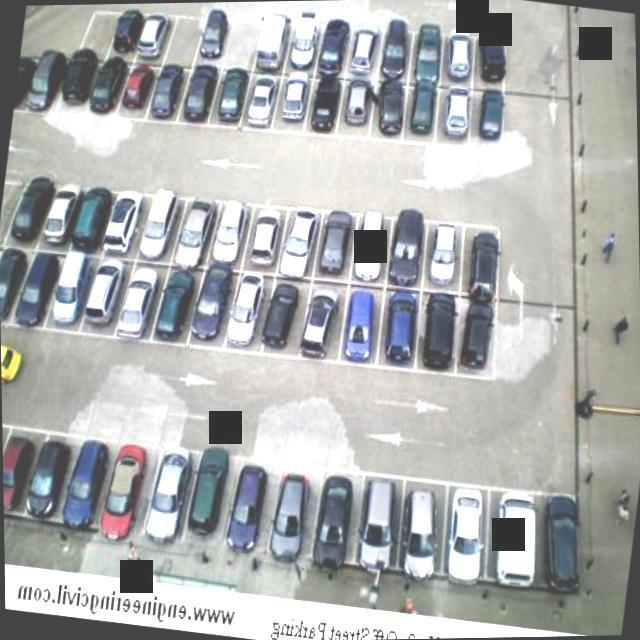space-empty: (77, 4, 124, 63), (225, 17, 259, 71), (166, 17, 199, 69), (0, 181, 15, 255)
space-occupied: (479, 479, 555, 595), (266, 459, 331, 579), (310, 461, 372, 578), (432, 478, 497, 587), (348, 471, 408, 583), (100, 439, 158, 554), (180, 445, 236, 561), (224, 460, 284, 566), (391, 475, 452, 579), (64, 433, 119, 542), (143, 451, 197, 556), (537, 489, 586, 597), (31, 432, 81, 529), (414, 292, 467, 376), (2, 423, 44, 528), (339, 286, 389, 370), (382, 207, 432, 291), (118, 253, 167, 337), (25, 42, 73, 126), (263, 281, 312, 363), (302, 281, 351, 361), (424, 212, 470, 294), (311, 205, 359, 283), (175, 59, 223, 137), (226, 272, 270, 357), (48, 250, 88, 342), (351, 205, 395, 288), (192, 265, 232, 355), (39, 177, 85, 255), (12, 173, 56, 253), (102, 182, 148, 258), (280, 202, 324, 280), (381, 287, 425, 365), (71, 181, 115, 257), (244, 200, 288, 276), (83, 256, 125, 335), (456, 300, 498, 379), (19, 248, 59, 330), (159, 262, 198, 346), (334, 76, 382, 141), (212, 192, 254, 264), (303, 72, 345, 144), (268, 69, 310, 141), (401, 79, 444, 149), (371, 71, 412, 143), (61, 48, 102, 120), (178, 194, 217, 269), (137, 194, 181, 260), (463, 224, 503, 295), (211, 68, 251, 136), (89, 60, 128, 129), (409, 22, 450, 84), (465, 87, 505, 149), (283, 14, 323, 76), (432, 87, 472, 147), (119, 62, 159, 122), (0, 243, 26, 334), (439, 29, 479, 88), (255, 9, 291, 74), (380, 19, 417, 81), (240, 75, 277, 137), (477, 32, 516, 90), (343, 22, 385, 75), (201, 8, 234, 69), (139, 15, 174, 70), (319, 12, 352, 69), (13, 44, 39, 115), (113, 11, 146, 61), (2, 415, 11, 515)
